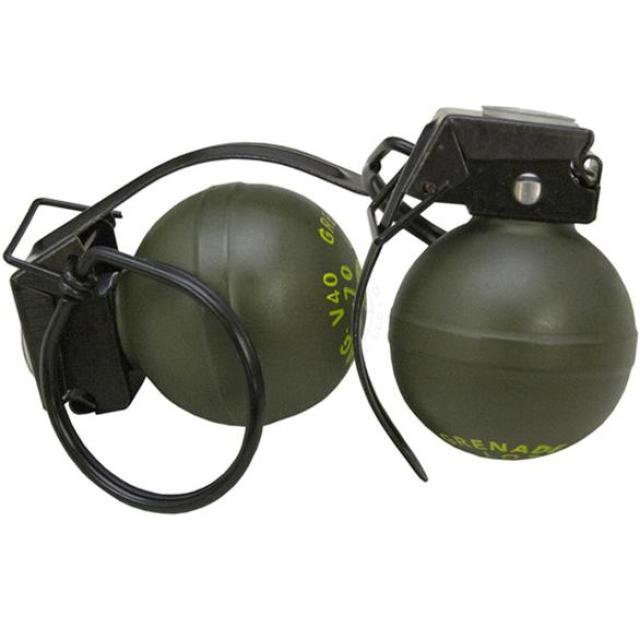grenade: (3, 142, 369, 516), (355, 105, 640, 485)
